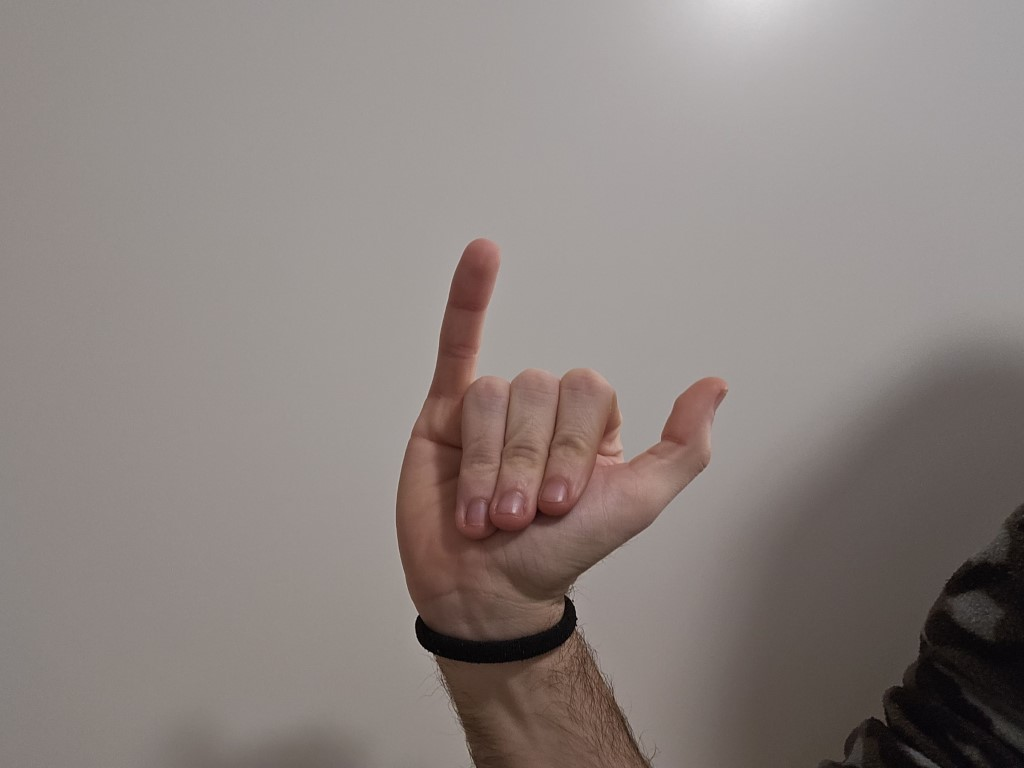y: (386, 215, 743, 608)
